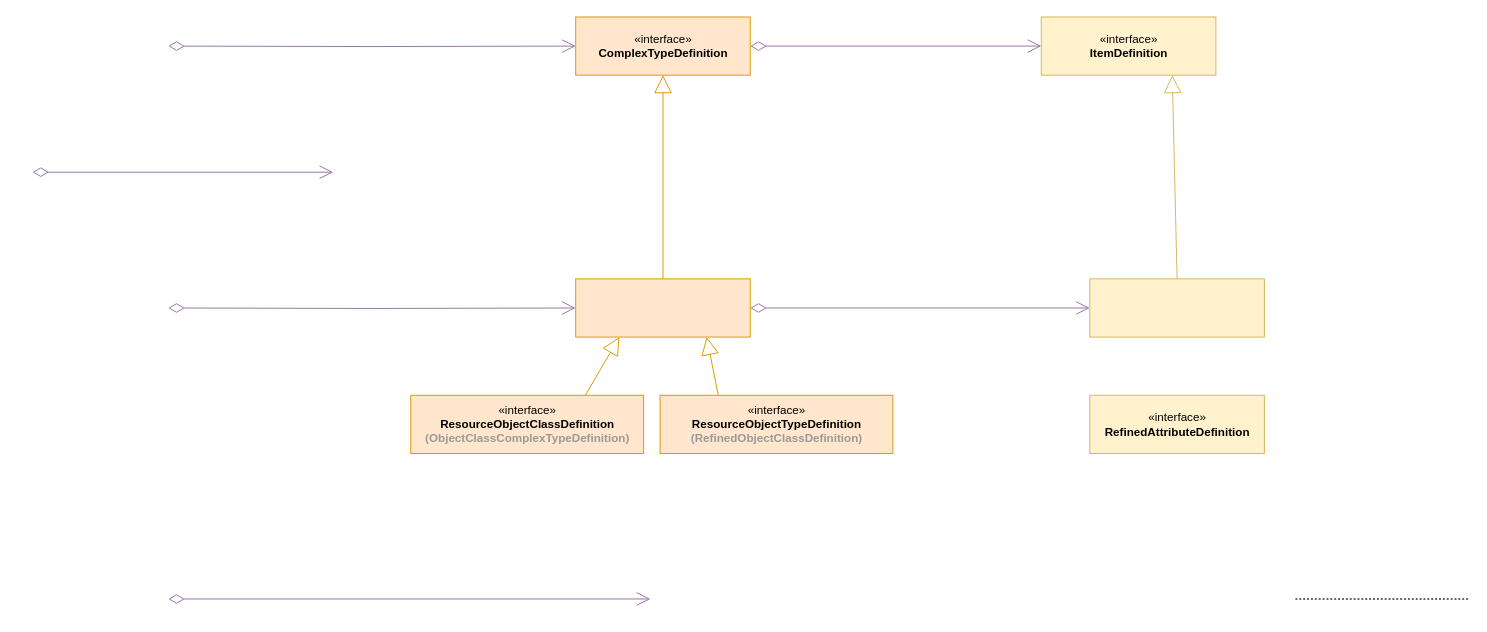
This 1487x632 diagram has some shape labels left out. The shapes that lost their labels are listed below. From the top down, each one's centre as x and y in pixels, then its label:
[662,307]: «interface» ResourceObjectDefinition
[1176,307]: «interface» ResourceAttributeDefinition
